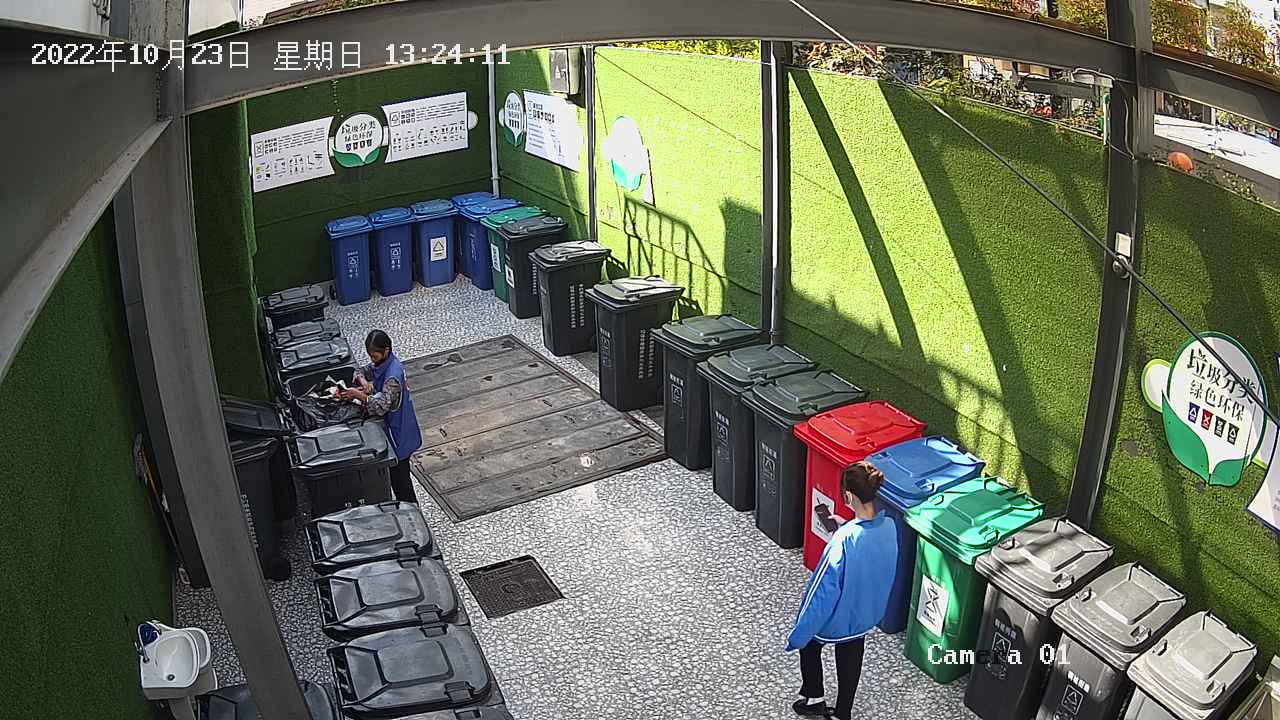worker: (779, 456, 902, 720), (334, 327, 430, 516)
